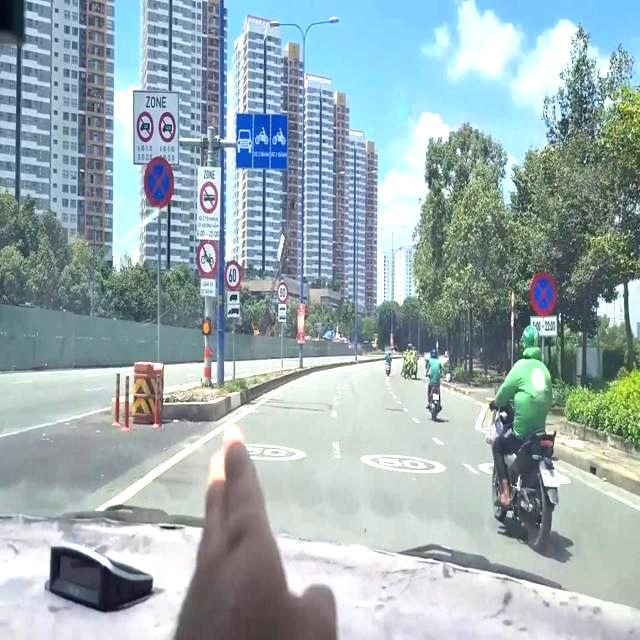Biển phụ: (528, 315, 558, 337), (198, 273, 216, 296), (227, 292, 240, 321), (277, 304, 287, 322)
Cấm các phương tiện hoạt động trong khung giờ cố định: (122, 85, 181, 166), (196, 162, 226, 241)
Cấm dừng - Cấm đỗ: (135, 150, 177, 209), (530, 264, 557, 317)
Cấm xe máy: (196, 232, 218, 276)
Giới hạn tốc độ: 60Km/h: (224, 255, 242, 293)
Giới hạn tốc độ: 80Km/h: (274, 276, 288, 302)
Làn đường cho từng xe: (232, 109, 288, 172)
